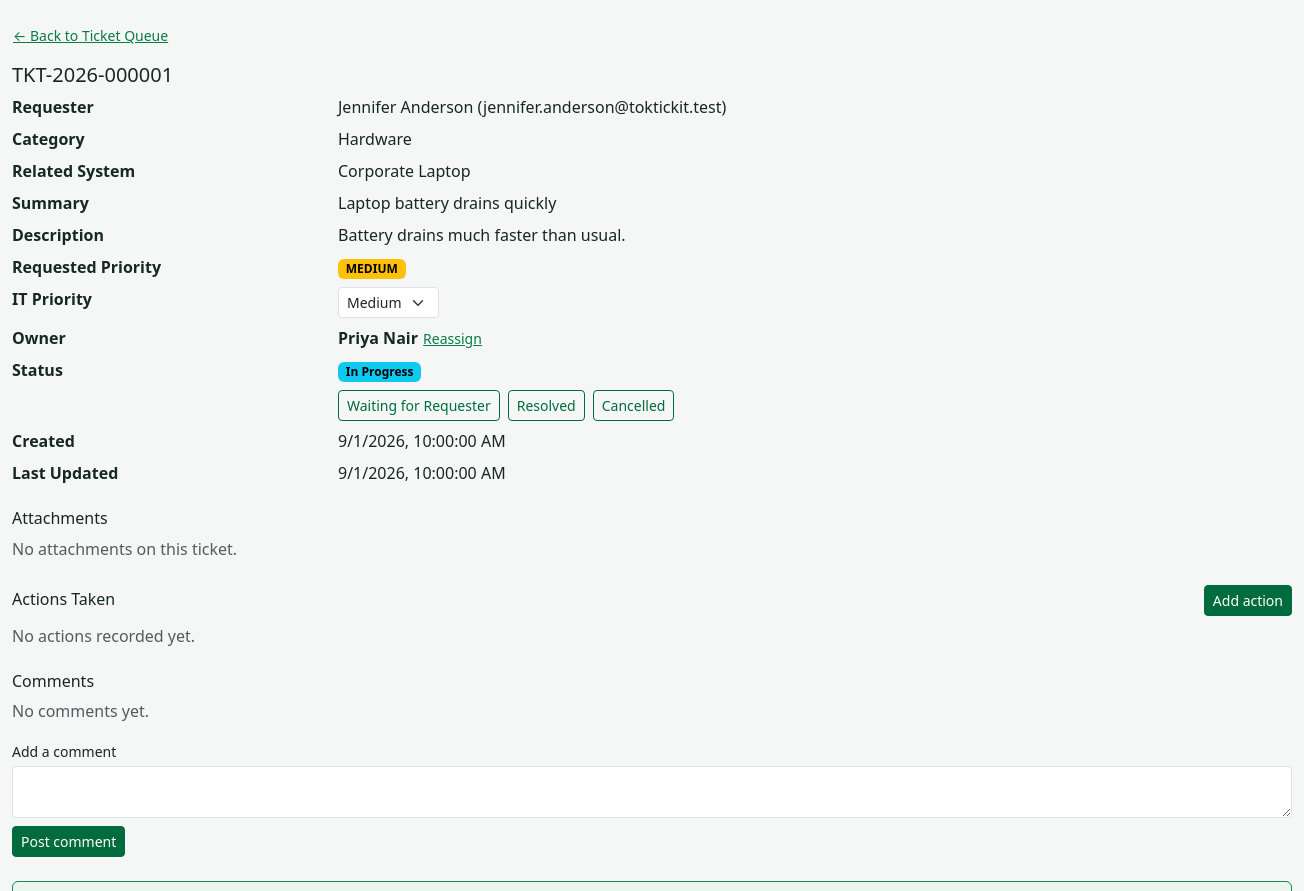
Test case: TicketWorkflow: status buttons › UI-10: conflicts and refresh › the confirm step is closed when the change is rejected, so a retry starts from the fresh state
Expected: the heading "TKT-2026-000001" is shown, [12,61,173,88]
Click the button "Cancelled" at [634, 406], box [593,390,674,421]
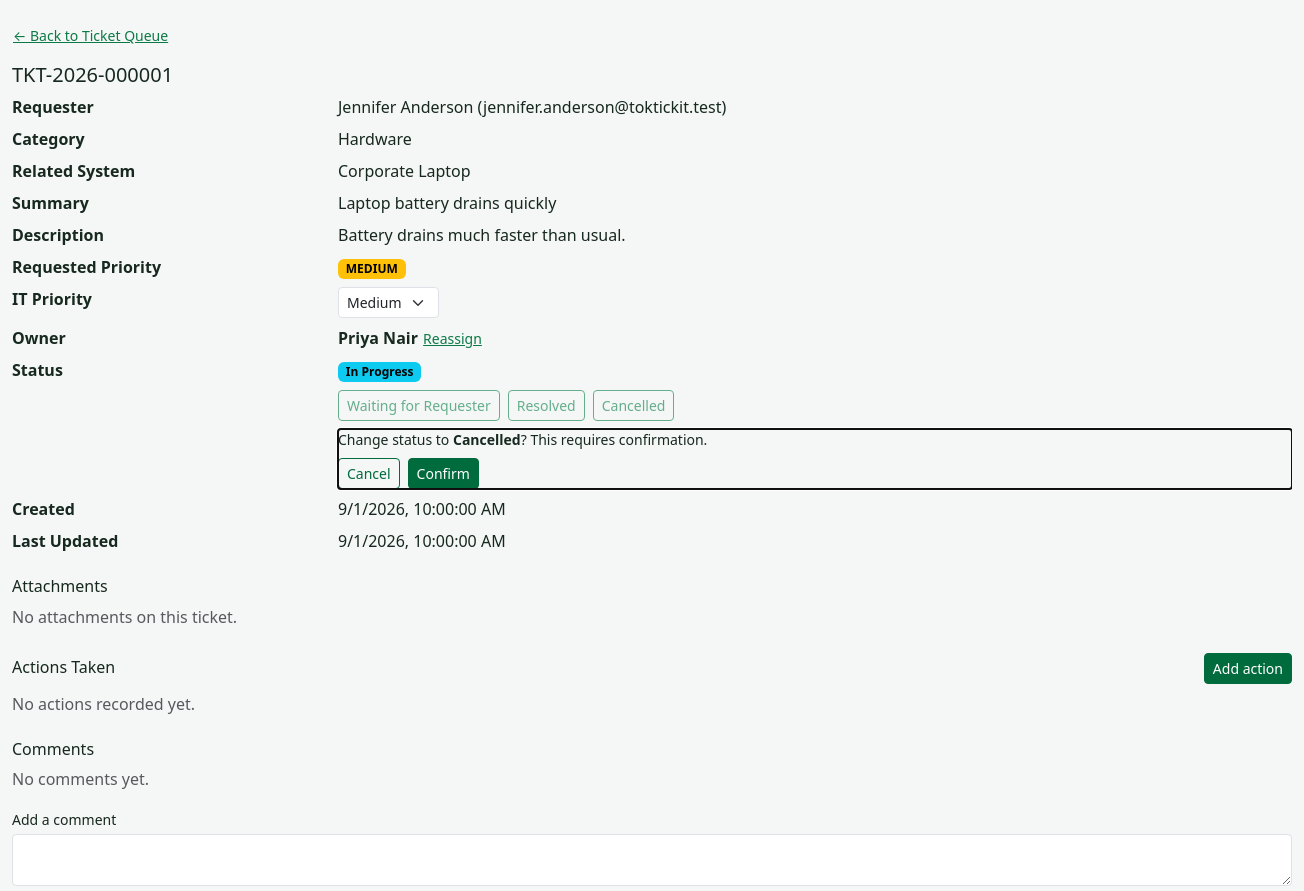
Click the button "Confirm" at [443, 474], box [408,458,479,489]
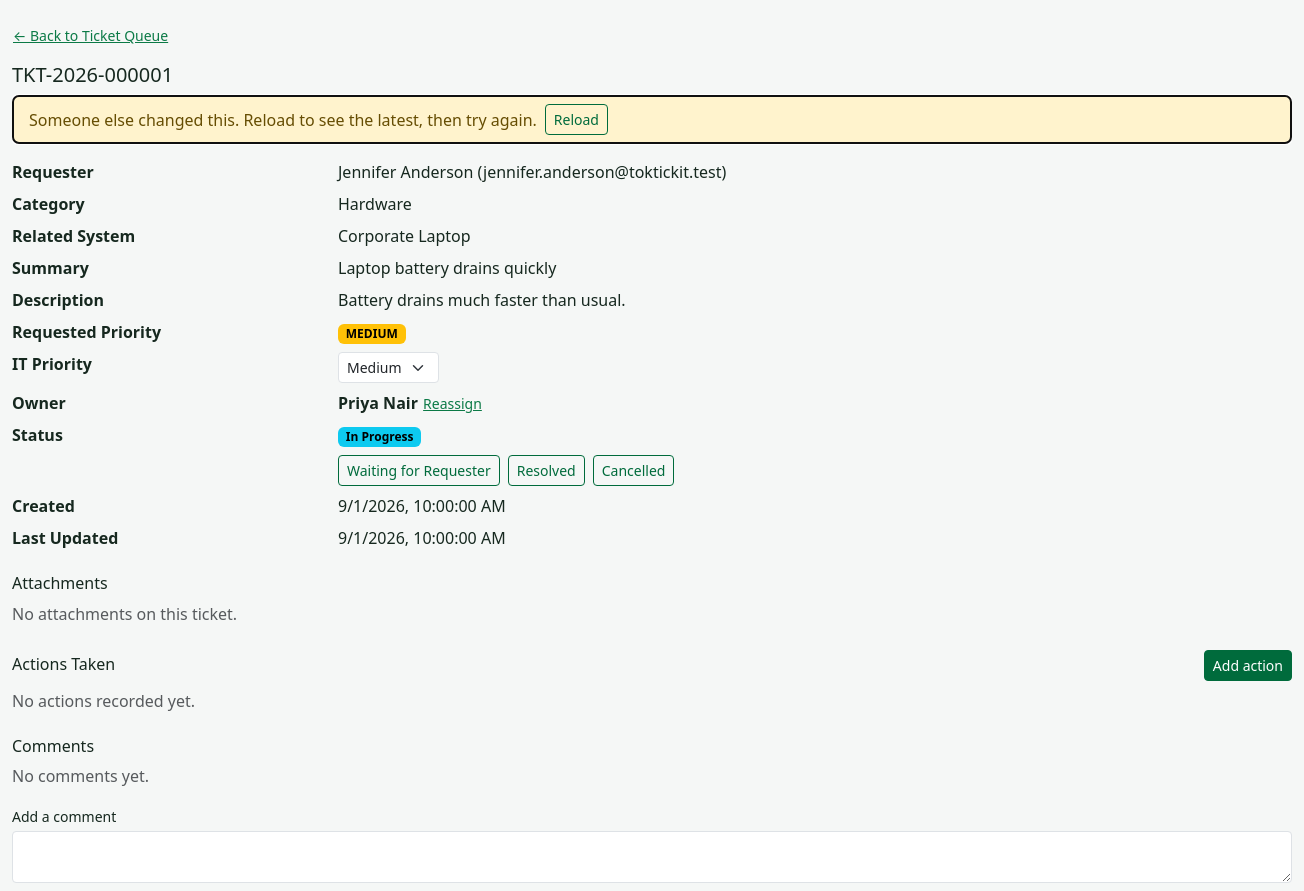
Result: the text "Someone else changed this. Reload to see the latest, then try again." is shown at [29,108,537,132]
Result: the text "requires confirmation" is gone
